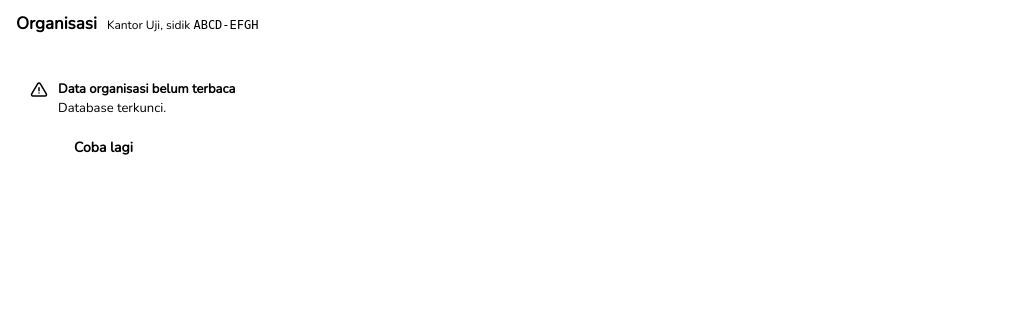
Test: Organisasi: memuat dan error › error org_overview tampil, dan Coba lagi memuat ulang
Expected: the text "Data organisasi belum terbaca" is shown, [58,80,235,99]
Expected: the text "Database terkunci." is shown, [58,99,166,117]
Click the button "Coba lagi".
click(103, 147)  # box [58,128,149,166]
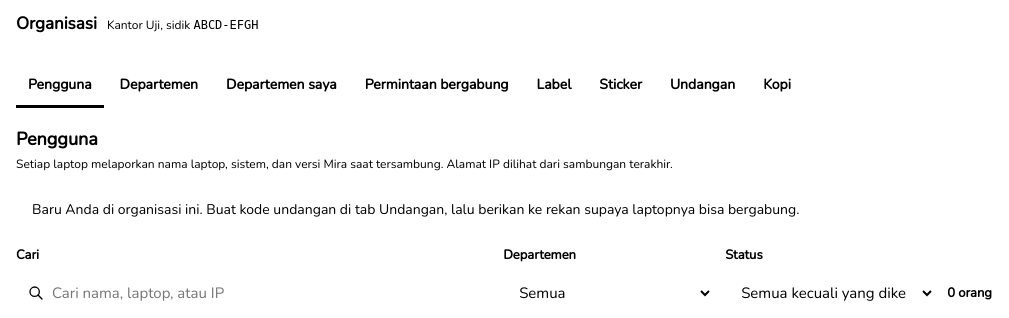
Expected: the navigation bar named "Bagian organisasi" is shown, [16,64,803,108]
Expected: the text "Data organisasi belum terbaca" is gone
